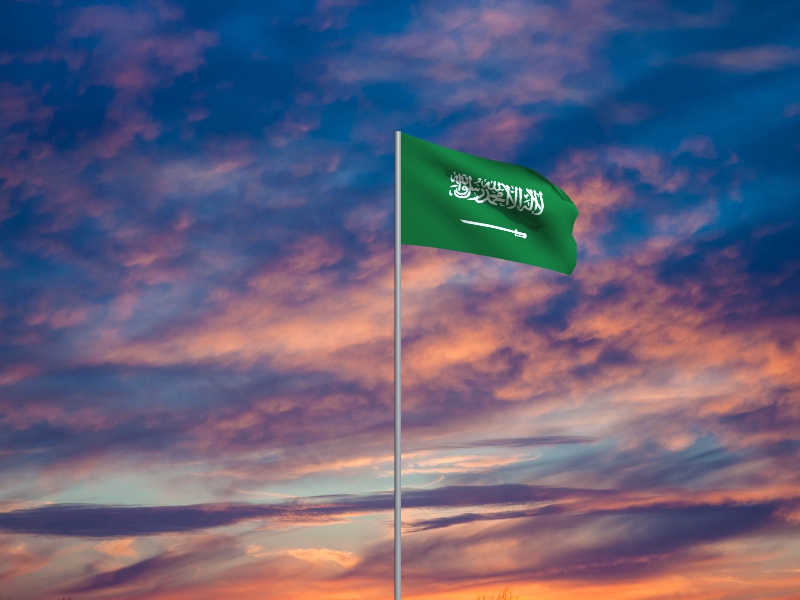sa: (401, 133, 580, 277)
